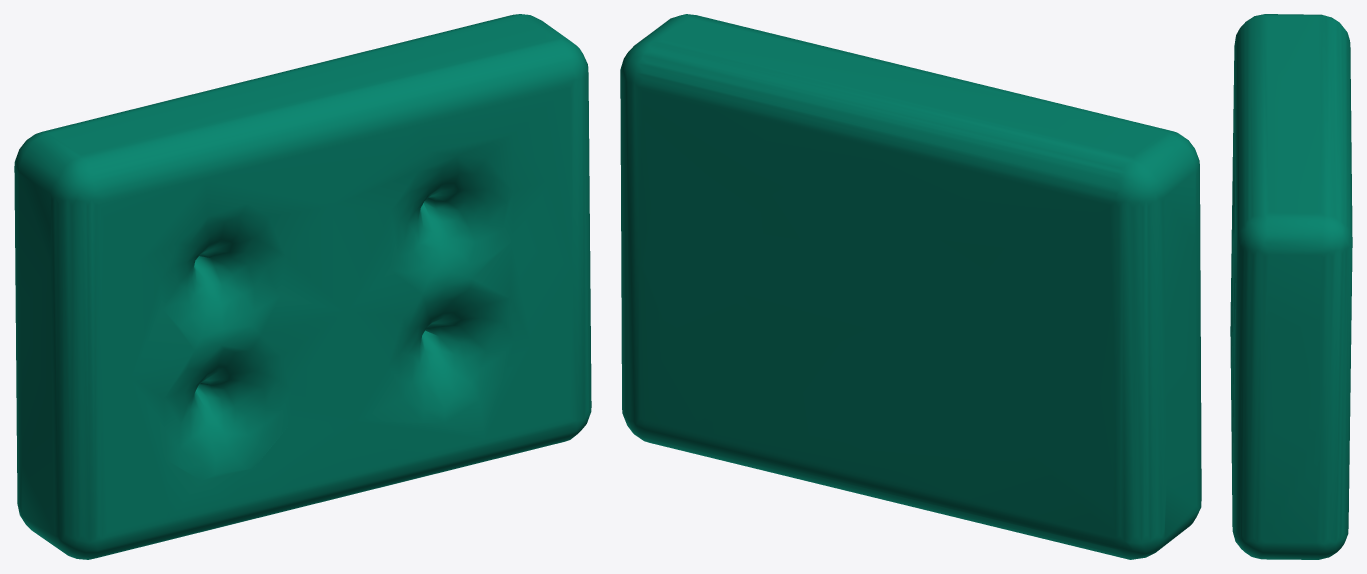
Rendered from Couch_Cushion1.fbx.
3 views of the same model, side by side, from view 1: azimuth 30°, elevation 25°; view 2: azimuth 150°, elevation 25°; view 3: azimuth 270°, elevation 25° (orthographic). The views are drawn at different scales.
Visible parts, largest first — view 1: couchCushion; view 2: couchCushion; view 3: couchCushion.
Boxes of the visible parts, bbox=[...] form: couchCushion: bbox=[14, 14, 591, 559]; couchCushion: bbox=[620, 14, 1201, 559]; couchCushion: bbox=[1230, 14, 1352, 559].
Bounding box in the file's own units: 4.52 × 3.23 × 1.04.
Materials: 1 (1 with a texture image).
